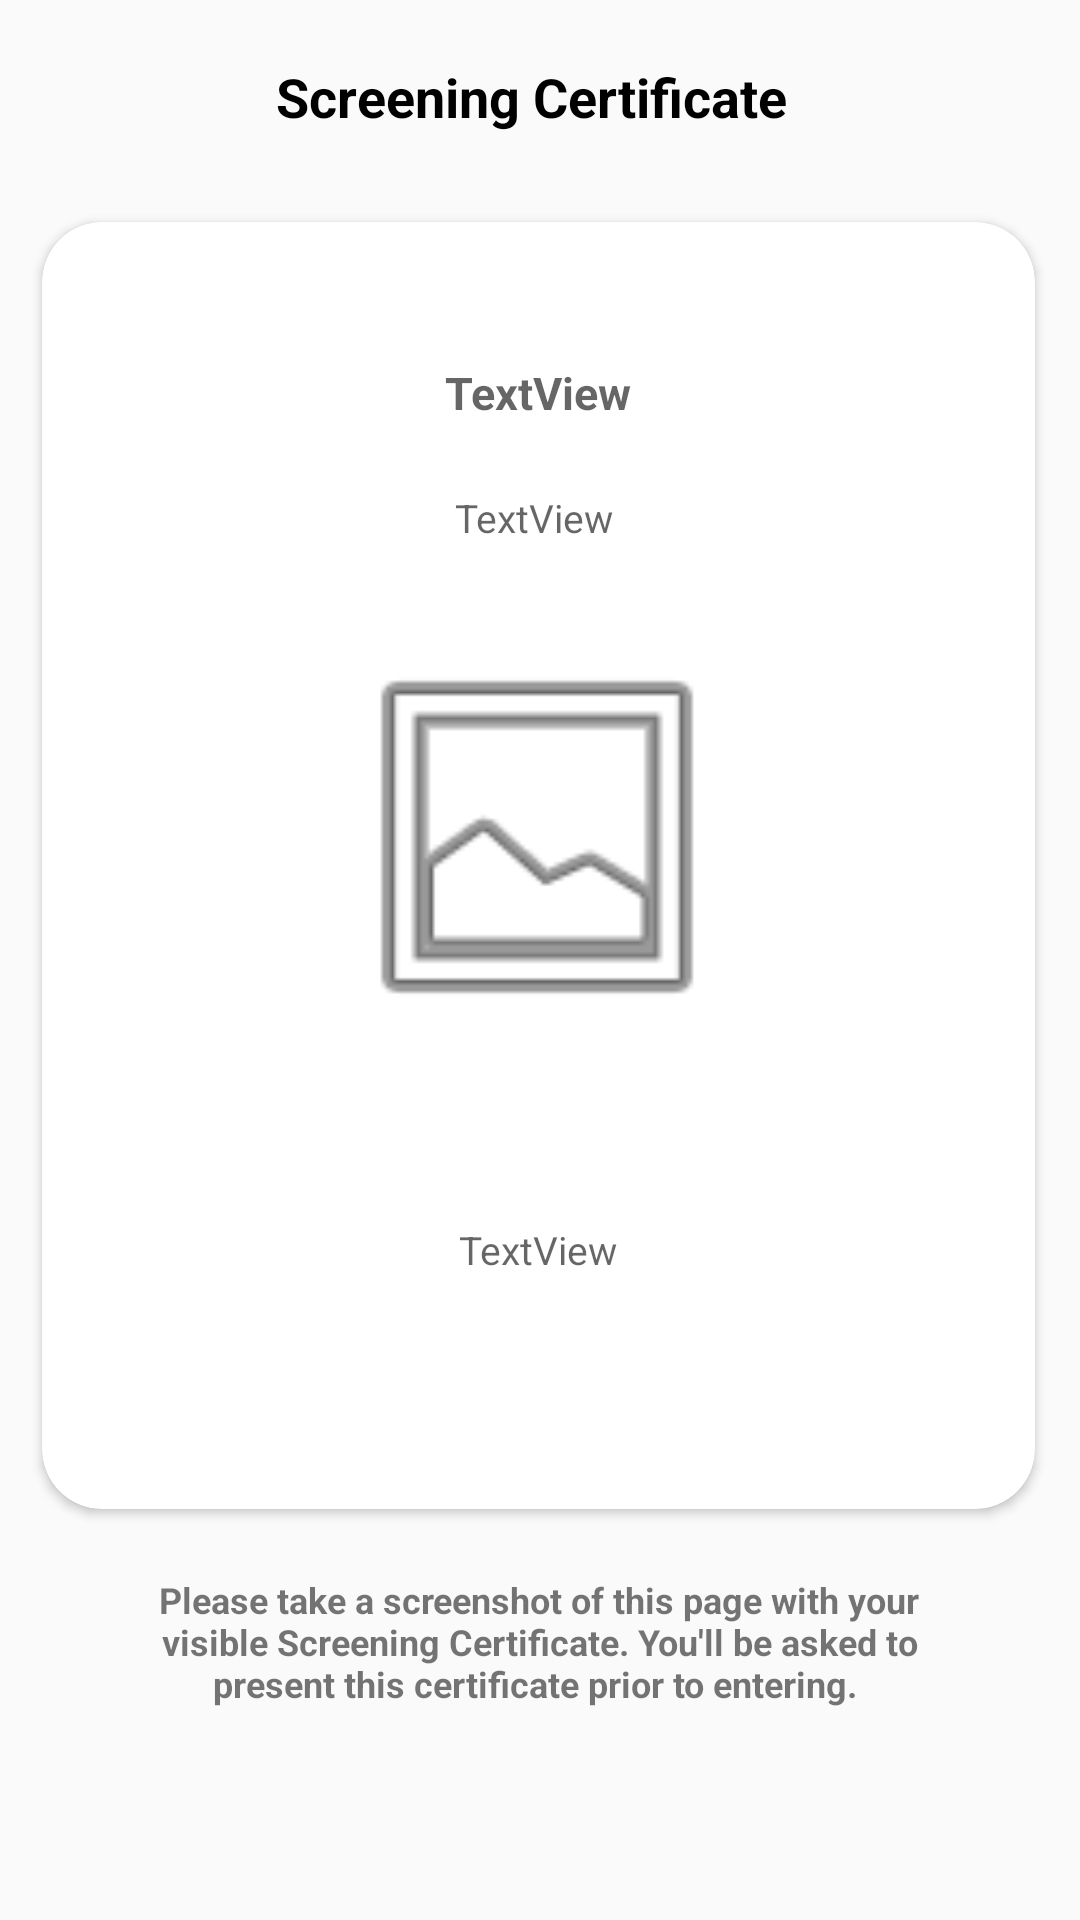

Screen size 1080*1920. Icon name, then its center in pixels as (x,y):
gallery: (537,837)
